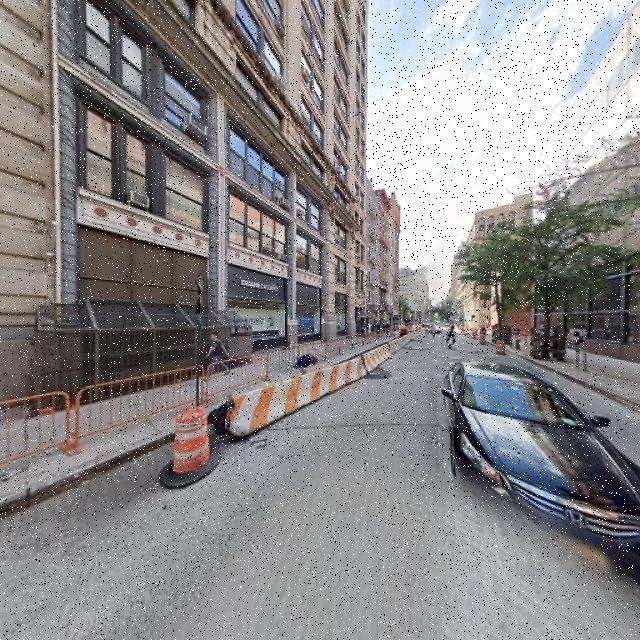Building: (1, 1, 365, 409), (534, 1, 640, 360)
